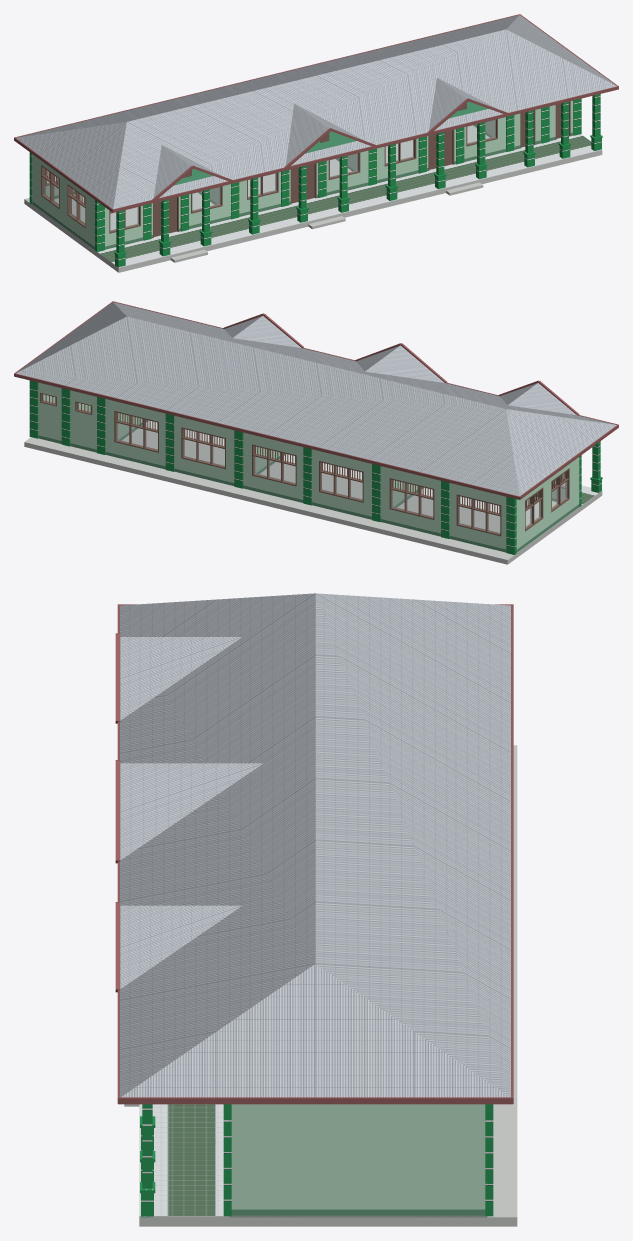
File: gedung_kelas_pplg.glb
3 renders of one model, top to bottom at view 1: azimuth 30°, elevation 25°; view 2: azimuth 150°, elevation 25°; view 3: azimuth 270°, elevation 25°, orthographic. The views are drawn at different scales.
Parts seen in each view (by area): view 1: Atap_Seng_Zincalume_Silver, Pilaster_Dan_Tiang_Hijau, Lantai_Teras_Putih_Hijau, Dinding_Mint_PPLG, Kusen_Pintu_Jendela_Mahoni, Lisplang_Marun_Atap, Apron_Beton_Perimeter, Kaca_Jendela_Transparan, Lantai_Kelas_Kosong, Plint_Dinding_HijauTua, Gable_Hijau_Segitiga; view 2: Atap_Seng_Zincalume_Silver, Dinding_Mint_PPLG, Apron_Beton_Perimeter, Kusen_Pintu_Jendela_Mahoni, Pilaster_Dan_Tiang_Hijau, Kaca_Jendela_Transparan, Lantai_Kelas_Kosong, Lisplang_Marun_Atap, Plint_Dinding_HijauTua; view 3: Atap_Seng_Zincalume_Silver, Dinding_Mint_PPLG, Apron_Beton_Perimeter, Lantai_Teras_Putih_Hijau, Lisplang_Marun_Atap, Pilaster_Dan_Tiang_Hijau, Plint_Dinding_HijauTua.
Boxes of the visible parts, box(x1,y1,x2,y2) form: Atap_Seng_Zincalume_Silver: box(16, 15, 616, 208); Pilaster_Dan_Tiang_Hijau: box(29, 94, 602, 267); Lantai_Teras_Putih_Hijau: box(97, 134, 601, 267); Dinding_Mint_PPLG: box(32, 100, 573, 246); Kusen_Pintu_Jendela_Mahoni: box(41, 101, 570, 237); Lisplang_Marun_Atap: box(14, 14, 618, 212); Apron_Beton_Perimeter: box(24, 150, 602, 272); Kaca_Jendela_Transparan: box(43, 120, 495, 230); Lantai_Kelas_Kosong: box(32, 125, 489, 250); Plint_Dinding_HijauTua: box(32, 124, 573, 249); Gable_Hijau_Segitiga: box(174, 101, 488, 185); Atap_Seng_Zincalume_Silver: box(16, 302, 616, 496); Dinding_Mint_PPLG: box(38, 382, 579, 549); Apron_Beton_Perimeter: box(24, 437, 602, 564); Kusen_Pintu_Jendela_Mahoni: box(40, 392, 569, 536); Pilaster_Dan_Tiang_Hijau: box(29, 380, 602, 554); Kaca_Jendela_Transparan: box(116, 423, 567, 533); Lantai_Kelas_Kosong: box(122, 420, 579, 552); Lisplang_Marun_Atap: box(14, 301, 618, 499); Plint_Dinding_HijauTua: box(38, 420, 579, 552); Atap_Seng_Zincalume_Silver: box(120, 593, 510, 1097); Dinding_Mint_PPLG: box(231, 1104, 485, 1209); Apron_Beton_Perimeter: box(124, 745, 517, 1226); Lantai_Teras_Putih_Hijau: box(139, 1104, 229, 1217); Lisplang_Marun_Atap: box(115, 604, 513, 1104); Pilaster_Dan_Tiang_Hijau: box(140, 1104, 493, 1217); Plint_Dinding_HijauTua: box(231, 1209, 485, 1215).
Bounding box in the file's own units: 27.22 × 5.45 × 9.35.
12 materials, 5 textured.
